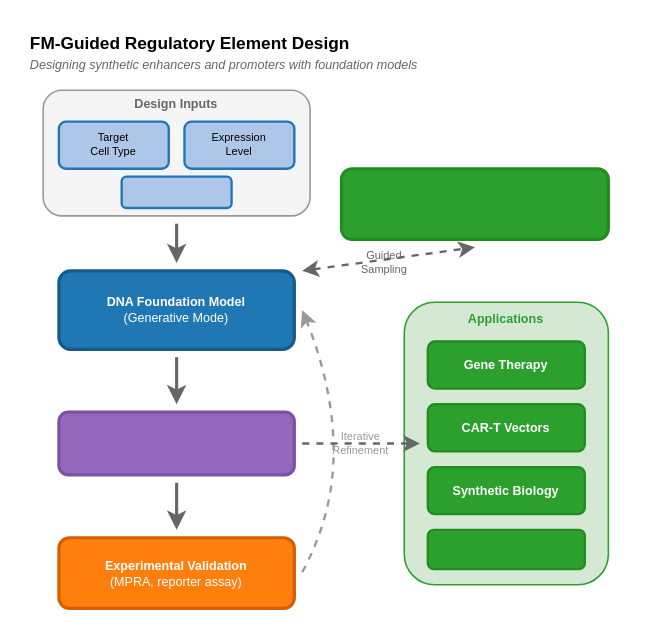
Image size: 650x636. Some labels were removed from this diagram. Each missing label, with the box of its shape:
Candidate Sequences: (57, 410, 295, 476)
Constraints: (120, 175, 232, 208)
mRNA Vaccines: (426, 528, 585, 570)
Regulatory Model (Enformer) Activity Prediction: (339, 166, 609, 240)
